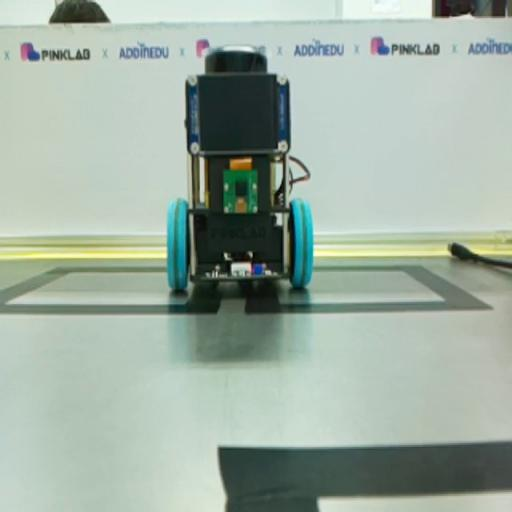pinky_63: (166, 45, 314, 292)
